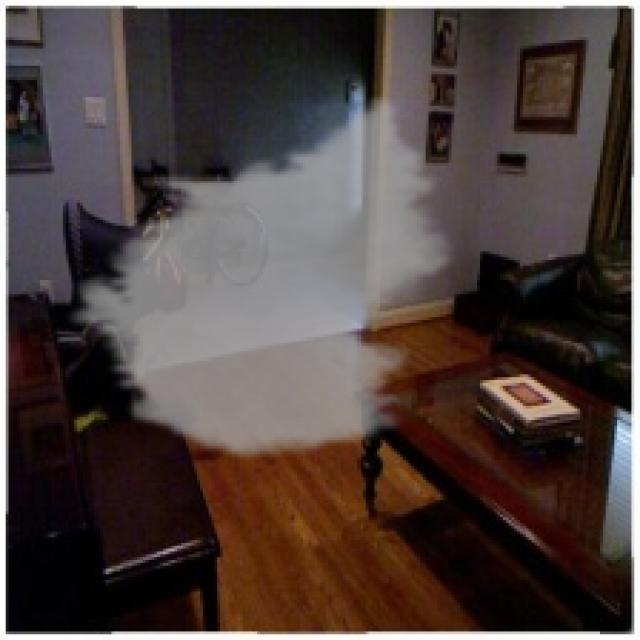Smoke: (63, 94, 466, 463)
